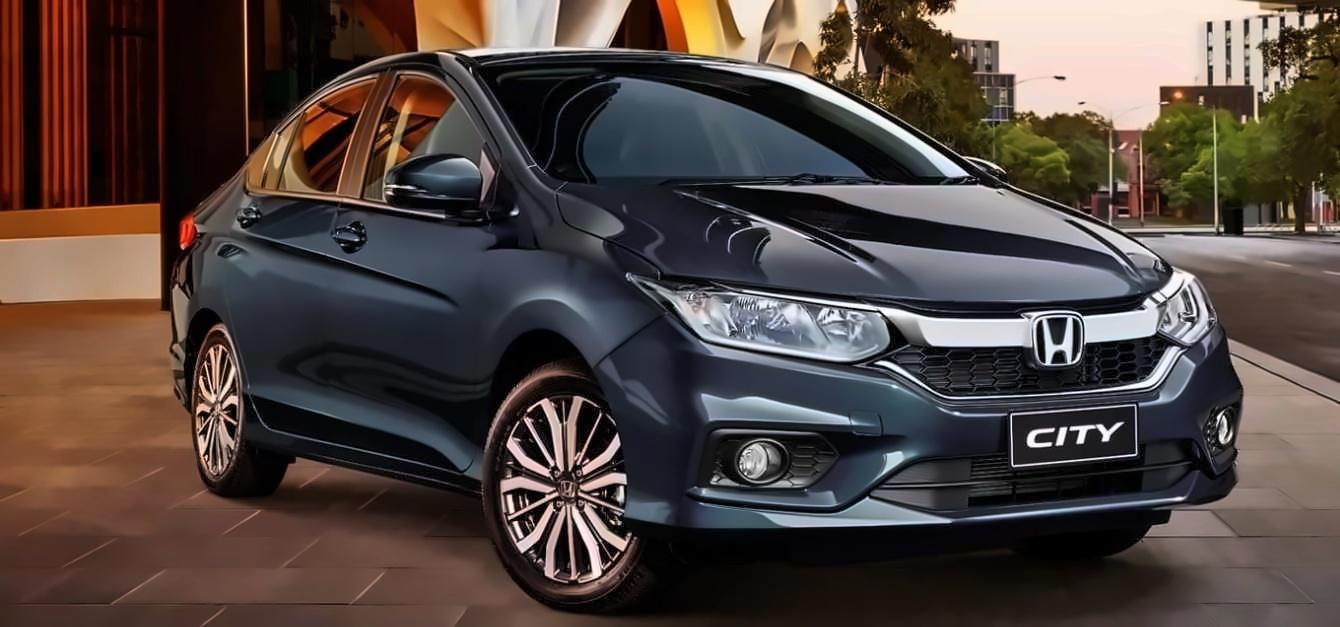Car hood: (555, 175, 1174, 308)
Driver-s door - -F-R-: (332, 59, 472, 477)
Fender - -F-R-: (472, 161, 666, 470)
Fender - -R-R-: (183, 197, 255, 425)
Front bumper: (587, 315, 1251, 536)
Headlight - -L-: (1135, 259, 1228, 353)
Headlight - -R-: (617, 264, 898, 370)
Passenger-s door - -R-R-: (225, 55, 369, 461)
Rear bumper: (152, 285, 196, 426)
Rear light - -R-: (162, 202, 201, 262)
Side bumper - -R-: (230, 384, 495, 509)
Side mirror - -L-: (950, 144, 1016, 205)
Side mirror - -R-: (375, 139, 492, 232)
